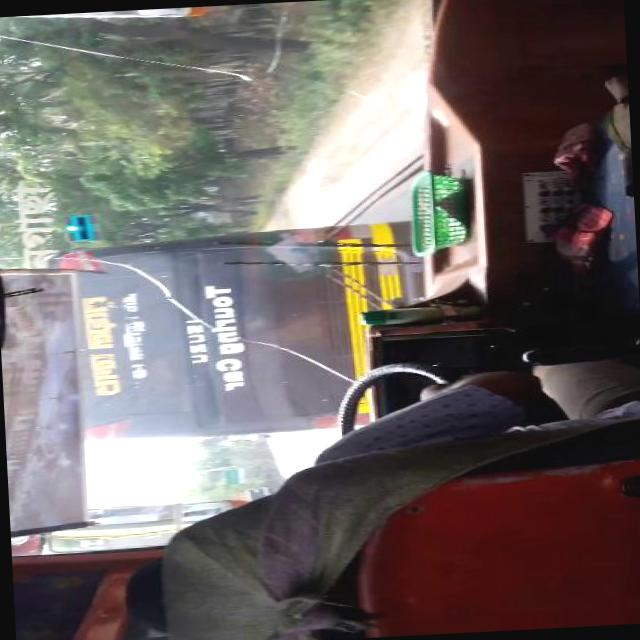bus: (56, 222, 427, 442)
